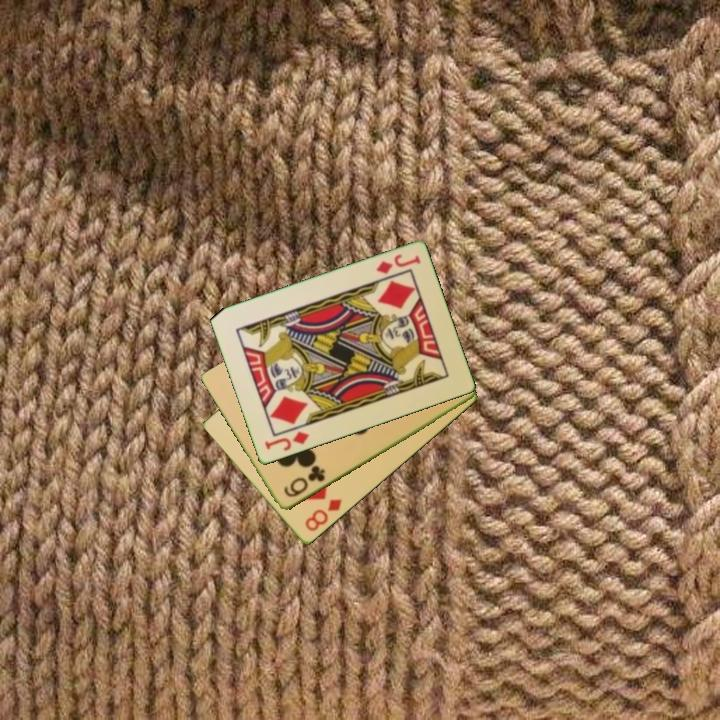6c: (280, 462, 328, 501)
8d: (301, 495, 345, 534)
Jd: (261, 428, 312, 454), (372, 251, 423, 277)
